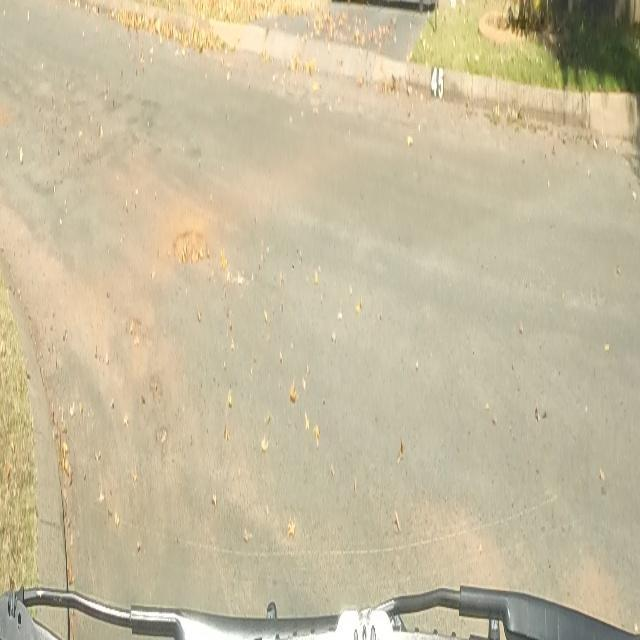pothole: (174, 223, 208, 268)
